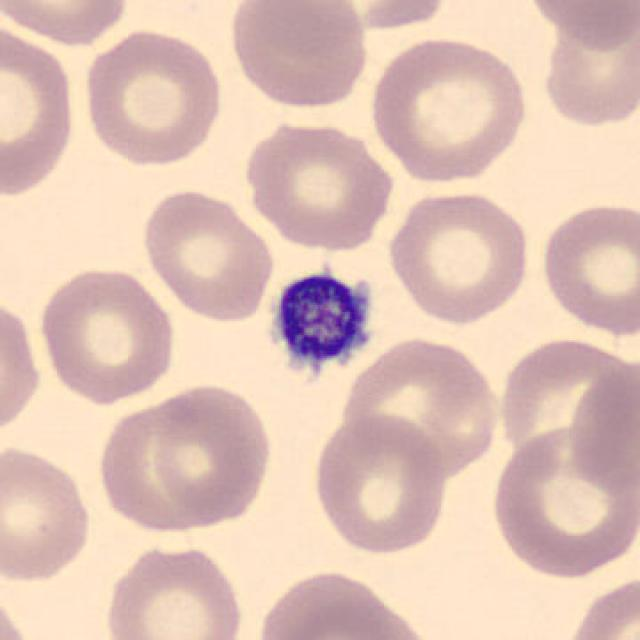Platelets: (258, 259, 380, 392)
RBC: (366, 34, 532, 185), (487, 419, 638, 582), (340, 333, 503, 476), (240, 116, 398, 252), (78, 25, 226, 169), (309, 409, 452, 557), (384, 187, 533, 326), (36, 262, 178, 406), (144, 379, 276, 531), (137, 185, 277, 325), (91, 410, 231, 541), (495, 338, 626, 466), (224, 0, 372, 111), (0, 16, 80, 206), (99, 539, 248, 640), (535, 196, 638, 340), (0, 441, 96, 587), (535, 2, 640, 132), (250, 567, 433, 640), (562, 356, 638, 496), (0, 291, 44, 446), (2, 0, 133, 48), (519, 0, 638, 51), (284, 0, 455, 35), (558, 571, 640, 640), (0, 585, 37, 639)
